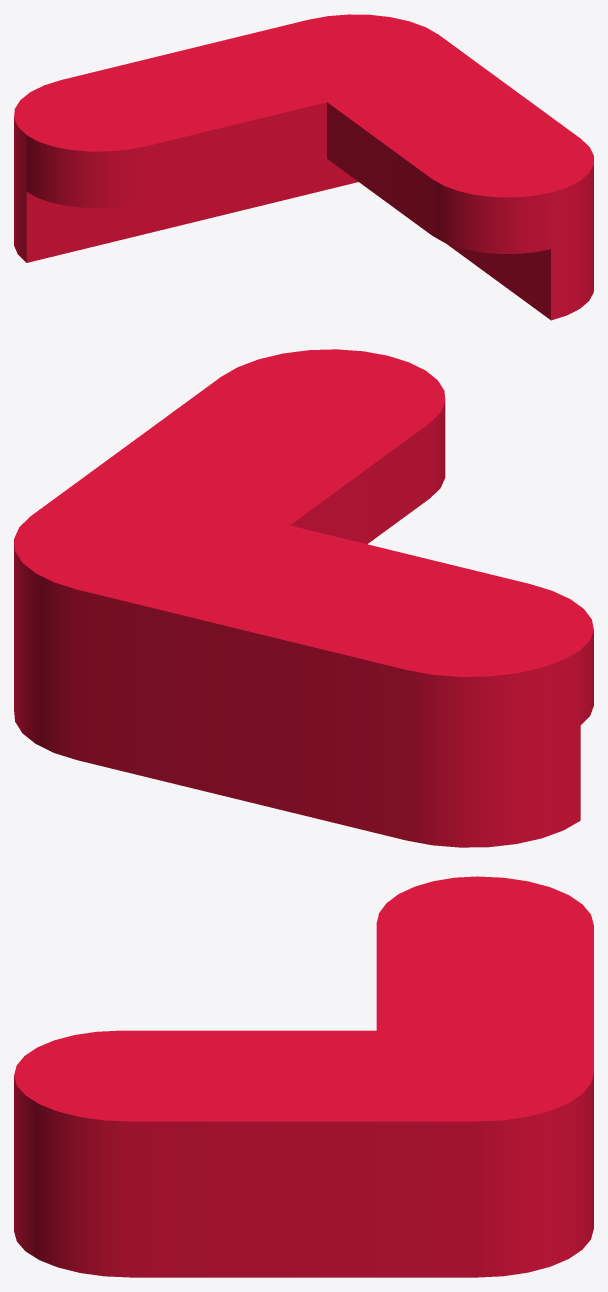
File: paraspigolo.fbx
3 renders of one model, top to bottom at view 1: azimuth 30°, elevation 25°; view 2: azimuth 150°, elevation 25°; view 3: azimuth 270°, elevation 25°, orthographic. The views are drawn at different scales.
Parts seen in each view (by area): view 1: Paraspigolo; view 2: Paraspigolo; view 3: Paraspigolo.
Part boxes in pixels (x1,y1,x2,y2): Paraspigolo: (14, 14, 593, 320); Paraspigolo: (14, 349, 593, 847); Paraspigolo: (14, 876, 593, 1277).
Size of the model in its own units: 6.73 by 2 by 6.73.
